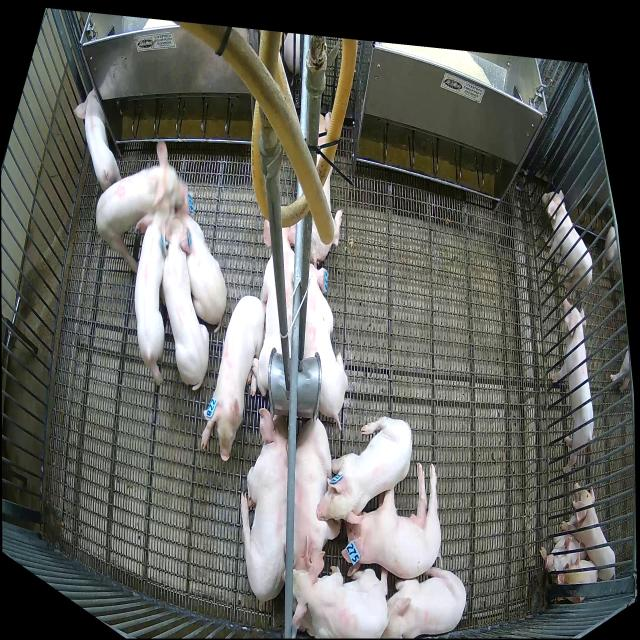pig: (96, 141, 193, 273), (342, 460, 442, 579), (201, 295, 264, 462), (317, 417, 412, 523), (240, 409, 288, 601), (160, 207, 209, 391), (292, 552, 388, 637), (251, 220, 296, 396), (304, 263, 348, 432), (293, 418, 340, 572), (134, 203, 170, 386), (174, 213, 227, 333), (383, 568, 466, 639), (293, 575, 382, 640), (74, 87, 122, 191), (310, 111, 342, 261)
